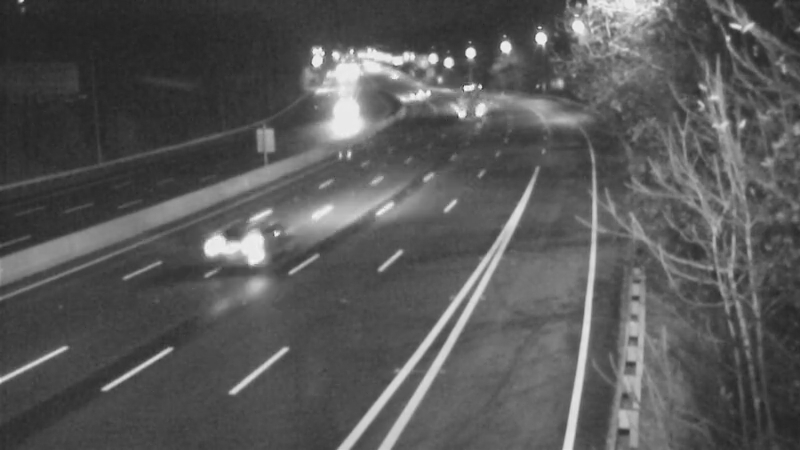vehicle: (193, 200, 273, 280), (371, 52, 421, 102), (405, 67, 455, 117), (379, 75, 429, 125), (451, 74, 501, 124), (325, 84, 375, 134)
